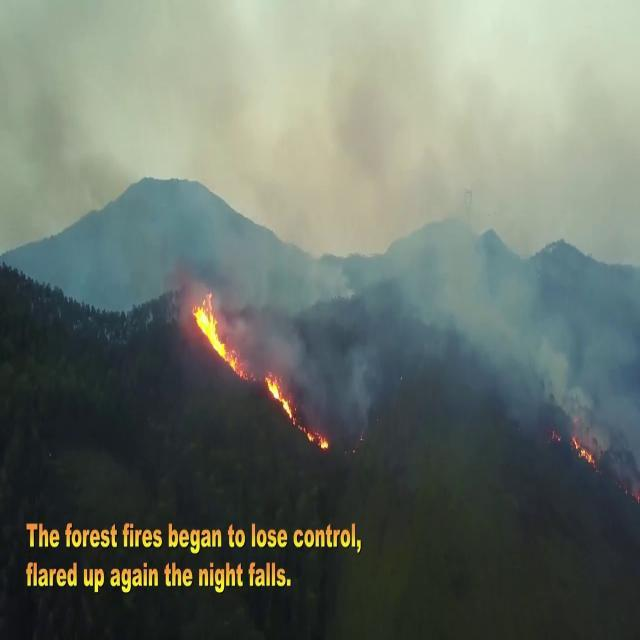Fire: (192, 290, 330, 450), (570, 433, 598, 468)
Smoke: (174, 140, 639, 500)
